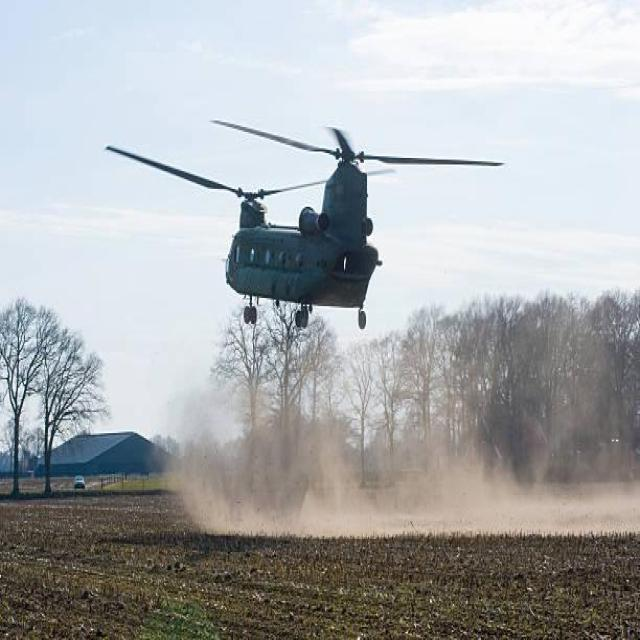Helicopter: (212, 146, 389, 343)
